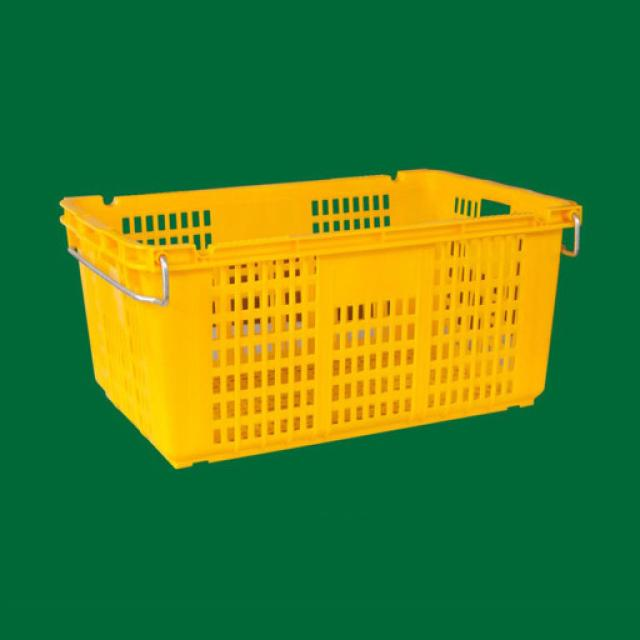basket: (58, 159, 599, 475)
